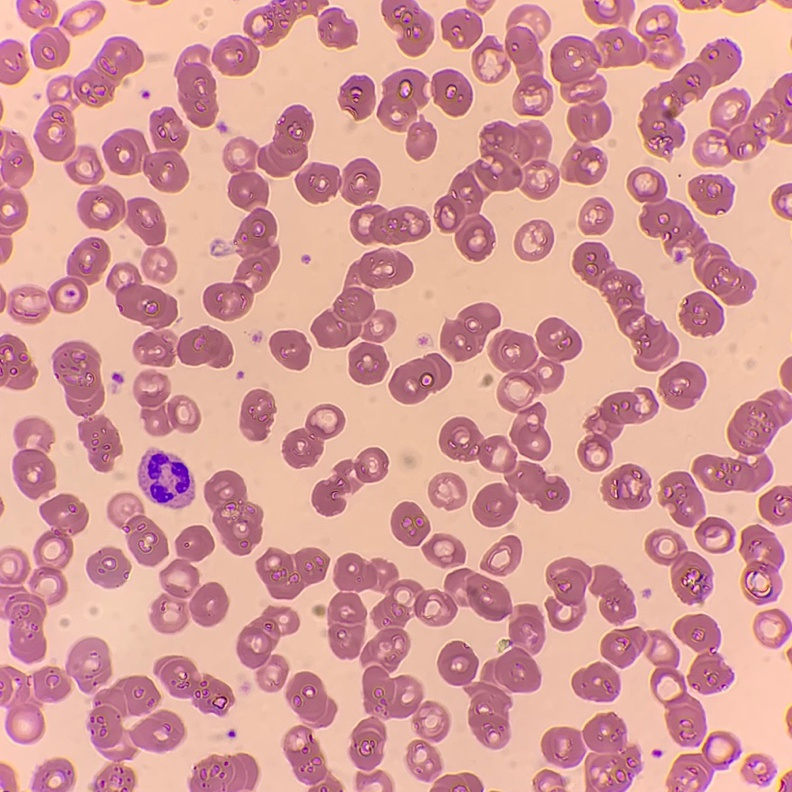RBC: (334, 554, 511, 740), (551, 5, 683, 142), (627, 167, 755, 304), (435, 121, 558, 260), (438, 604, 544, 748), (439, 417, 568, 526), (203, 137, 279, 320), (573, 242, 678, 370), (489, 318, 581, 459), (601, 627, 705, 746), (0, 637, 111, 743), (641, 39, 740, 156), (312, 248, 412, 347), (693, 391, 791, 491), (693, 73, 791, 165), (53, 341, 121, 471), (212, 0, 327, 75), (103, 107, 188, 191), (151, 525, 213, 633), (578, 387, 657, 471), (88, 676, 159, 760), (505, 5, 552, 115), (237, 607, 298, 691), (312, 448, 387, 515), (645, 529, 712, 602), (73, 36, 142, 106), (204, 471, 262, 554), (674, 614, 733, 693), (154, 656, 233, 714), (34, 494, 88, 578), (583, 713, 641, 791), (49, 238, 109, 312), (107, 263, 176, 327), (667, 732, 740, 791), (108, 493, 167, 565), (134, 370, 199, 435), (133, 326, 232, 366), (257, 105, 312, 176), (283, 404, 344, 467), (284, 726, 342, 791), (296, 158, 379, 203), (256, 548, 328, 598), (440, 303, 500, 360), (175, 45, 217, 126), (0, 587, 45, 662), (740, 525, 783, 603), (13, 418, 55, 497), (138, 449, 194, 508), (546, 558, 591, 630), (350, 205, 429, 243), (390, 354, 451, 403), (378, 69, 425, 130), (381, 0, 433, 55), (287, 672, 335, 726), (189, 754, 258, 791), (591, 565, 635, 623), (659, 472, 704, 526), (328, 593, 365, 657), (35, 104, 74, 160), (131, 710, 184, 751), (659, 362, 705, 408), (603, 464, 650, 508), (78, 186, 125, 228), (0, 335, 36, 389), (431, 70, 472, 115), (127, 197, 165, 245), (680, 292, 723, 334), (572, 663, 619, 701), (350, 718, 385, 769), (1, 132, 33, 187), (689, 175, 733, 214), (240, 390, 274, 440), (87, 547, 129, 587), (562, 145, 606, 183), (190, 582, 228, 626), (542, 727, 584, 766), (391, 502, 429, 545), (30, 27, 69, 68), (270, 330, 309, 369), (482, 536, 521, 575), (318, 8, 356, 48), (442, 9, 482, 47), (515, 220, 553, 260), (349, 343, 387, 383), (340, 76, 375, 119), (754, 609, 791, 647), (696, 517, 734, 553), (33, 758, 74, 791), (66, 146, 102, 183), (428, 473, 466, 508), (407, 740, 440, 780), (61, 1, 104, 31), (424, 534, 464, 565), (759, 486, 791, 524), (0, 190, 27, 234), (579, 198, 612, 234), (93, 763, 135, 791), (0, 40, 27, 83), (142, 248, 176, 282), (583, 0, 633, 23), (406, 122, 436, 158), (16, 0, 57, 26), (743, 754, 774, 785), (433, 773, 482, 791), (472, 36, 497, 68), (8, 303, 44, 322), (356, 772, 392, 791), (772, 183, 791, 216), (47, 76, 71, 101), (0, 557, 17, 584), (0, 764, 16, 791), (50, 579, 66, 602), (725, 0, 754, 11), (781, 358, 791, 389), (0, 237, 11, 261), (467, 0, 488, 11), (211, 240, 224, 255), (682, 0, 703, 7), (784, 773, 791, 791), (675, 251, 683, 261), (0, 291, 5, 307), (115, 373, 123, 382), (542, 770, 551, 778), (315, 606, 323, 614), (787, 713, 791, 724), (149, 0, 159, 4), (783, 0, 791, 4)
